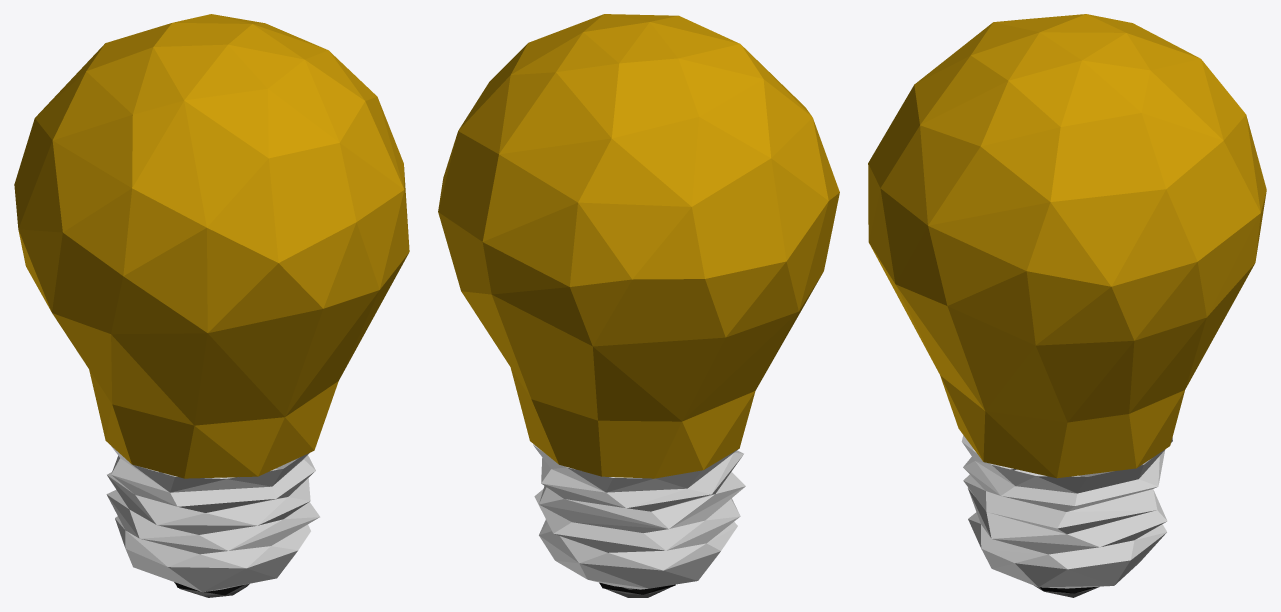
File: lamp.obj
The picture shows the model from 3 angles, left to right: view 1: azimuth 30°, elevation 25°; view 2: azimuth 150°, elevation 25°; view 3: azimuth 270°, elevation 25°; orthographic projection.
Visible parts, largest first — view 1: Sphere, rosca; view 2: Sphere, rosca; view 3: Sphere, rosca.
Part boxes in pixels (x1=…): Sphere: x1=14, y1=14, x2=409, y2=478; rosca: x1=106, y1=445, x2=319, y2=592; Sphere: x1=438, y1=14, x2=839, y2=478; rosca: x1=533, y1=444, x2=745, y2=589; Sphere: x1=868, y1=14, x2=1266, y2=478; rosca: x1=961, y1=435, x2=1172, y2=588.
Bounding box in the file's own units: 1.67 × 2.59 × 1.67.
